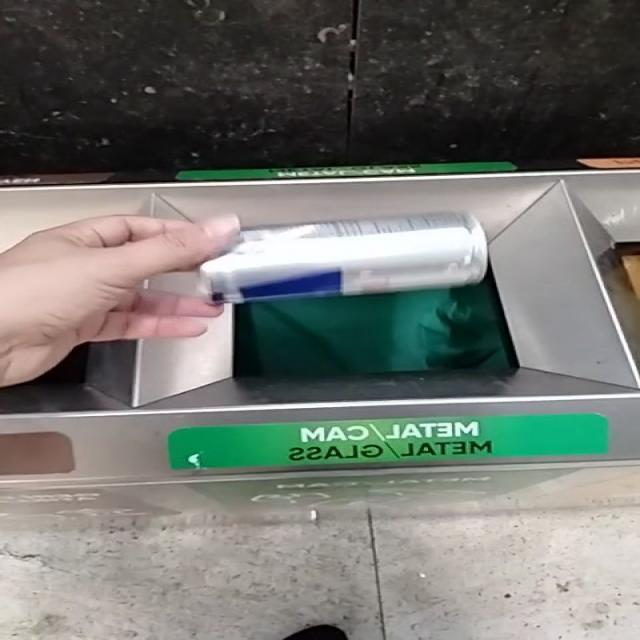Bin: (0, 171, 639, 479)
Metal: (199, 212, 488, 303)
